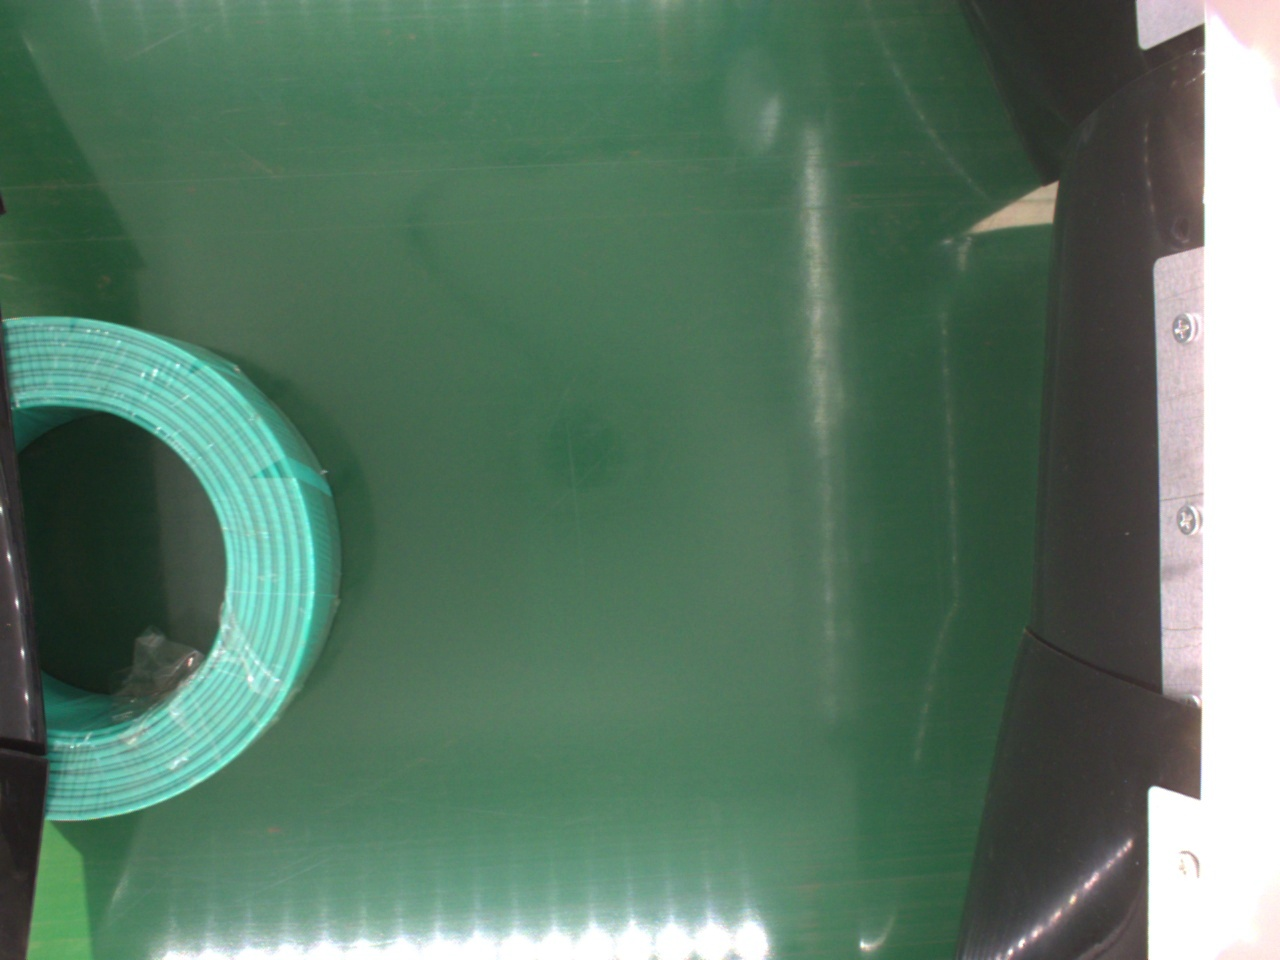green: (5, 317, 340, 827)
